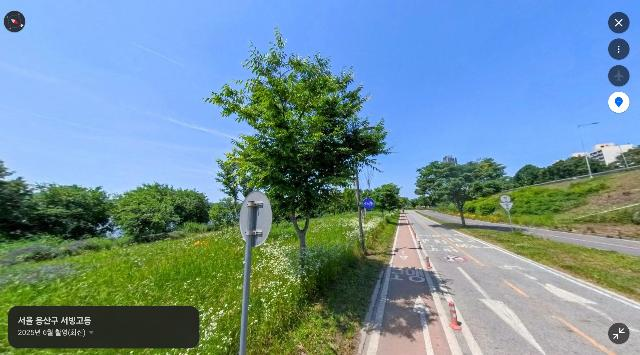other: (201, 21, 399, 255), (0, 160, 113, 247), (414, 157, 510, 228), (110, 182, 212, 241), (541, 156, 594, 184), (370, 183, 403, 222), (512, 164, 543, 187)
